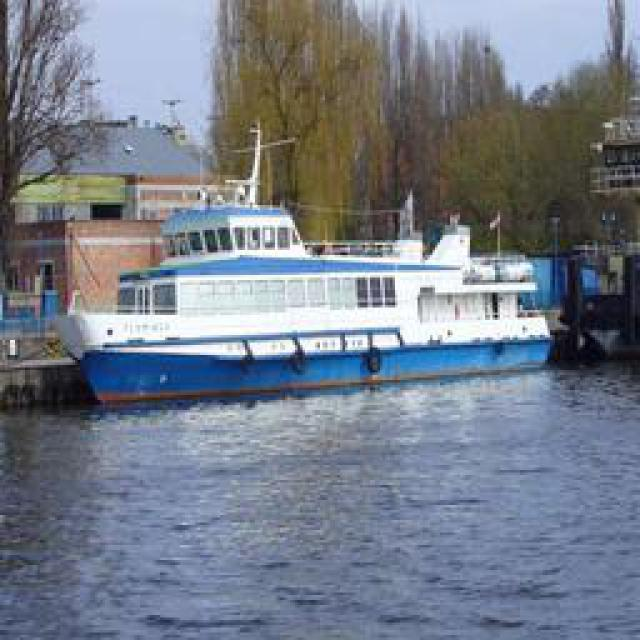Ship: (62, 156, 560, 399)
